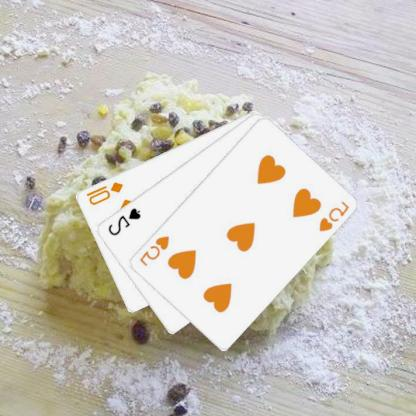10D: (84, 179, 126, 206)
2S: (106, 205, 144, 237)
5H: (138, 233, 172, 268), (317, 199, 352, 233)
